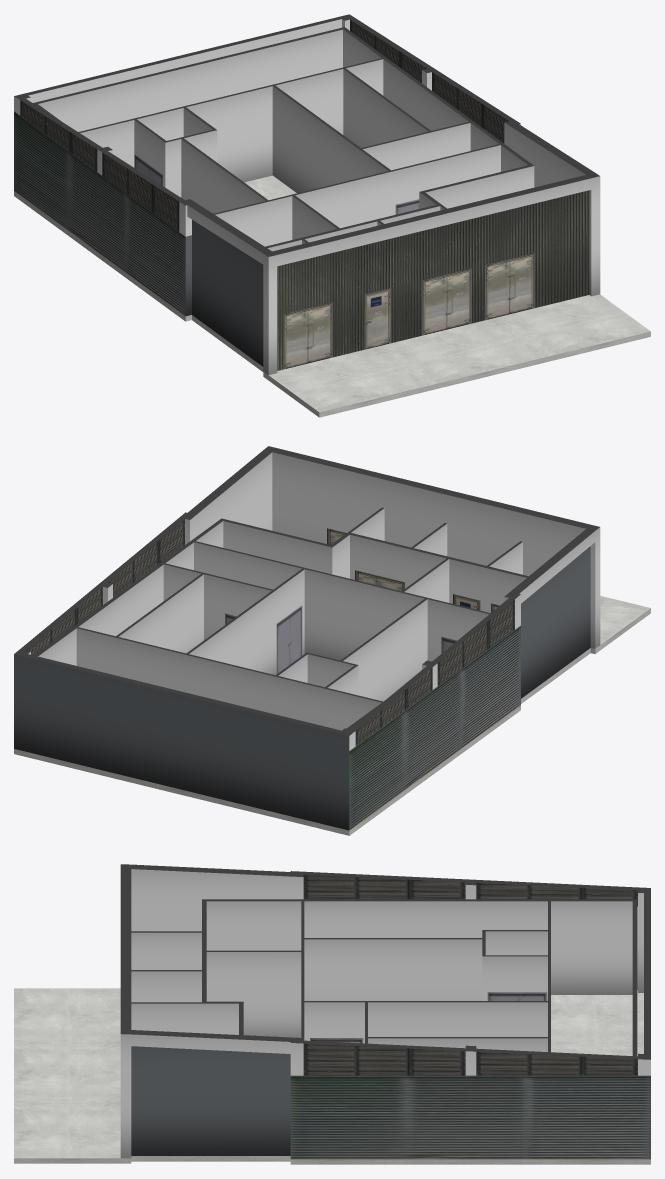
File: warehouse-equipment-1F.glb
The picture shows the model from 3 angles, top to bottom: view 1: azimuth 30°, elevation 25°; view 2: azimuth 150°, elevation 25°; view 3: azimuth 270°, elevation 25°; orthographic projection. The views are drawn at different scales.
Parts seen in each view (by area): view 1: Line002, Line003, Line005, Box003, 1F, Box011; view 2: Line002, Line003, 1F, Line005, Box011, Box003; view 3: Line003, Line002, Line005, 1F, Box011.
Boxes of the visible parts, box(x1,y1,x2,y2) form: Line002: box(14, 14, 600, 375); Line003: box(33, 27, 534, 251); Line005: box(14, 175, 650, 417); Box003: box(283, 253, 534, 369); 1F: box(20, 18, 514, 231); Box011: box(134, 155, 419, 214); Line002: box(14, 446, 600, 830); Line003: box(34, 507, 528, 730); 1F: box(20, 517, 514, 745); Line005: box(14, 596, 650, 835); Box011: box(225, 605, 456, 673); Box003: box(327, 528, 499, 612); Line003: box(131, 899, 637, 1056); Line002: box(120, 864, 650, 1159); Line005: box(14, 988, 650, 1164); 1F: box(303, 871, 637, 1075); Box011: box(310, 992, 547, 1043).
Bounding box in the file's own units: 13.34 × 4.69 × 20.9.
11 materials, 10 textured.
